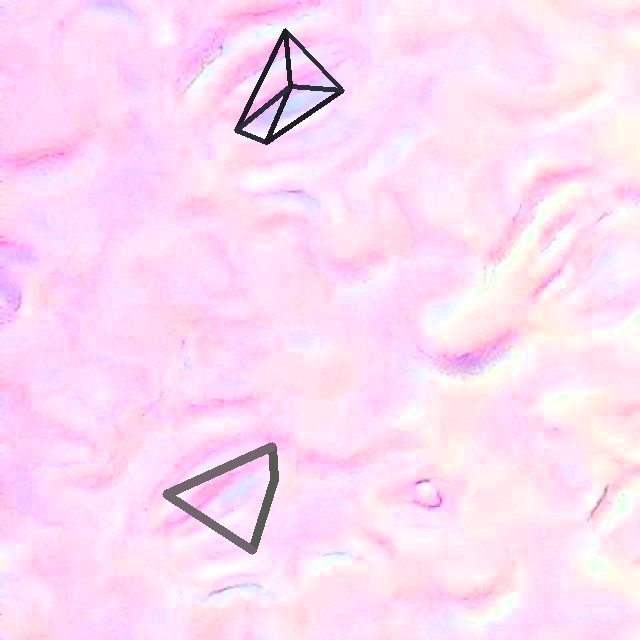open: (163, 443, 277, 553), (235, 29, 344, 144)
